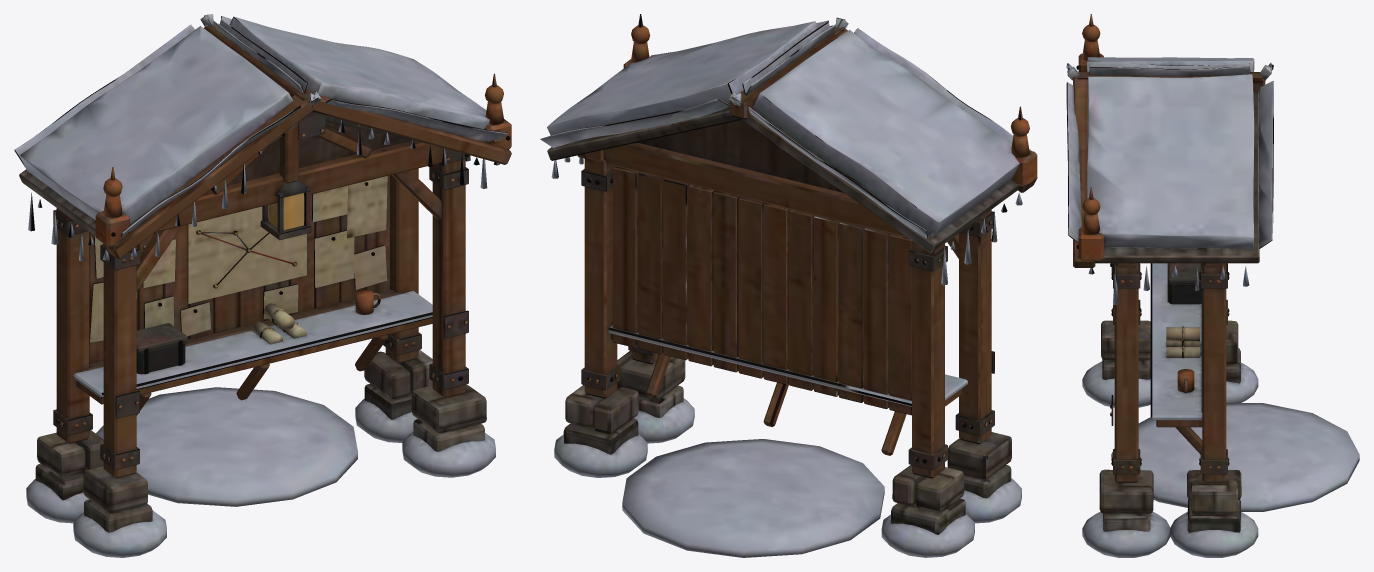
The model's file is board.glb.
3 views of the same model, side by side, from view 1: azimuth 30°, elevation 25°; view 2: azimuth 150°, elevation 25°; view 3: azimuth 270°, elevation 25° (orthographic). The views are drawn at different scales.
Parts seen in each view (by area): view 1: model; view 2: model; view 3: model.
Boxes of the visible parts, x1,y1,x2,y2 form: model: [14, 14, 511, 557]; model: [540, 14, 1037, 557]; model: [1066, 14, 1359, 557].
Size of the model in its own units: 3.11 by 3.2 by 2.07.
Materials: 2 (2 with a texture image).
